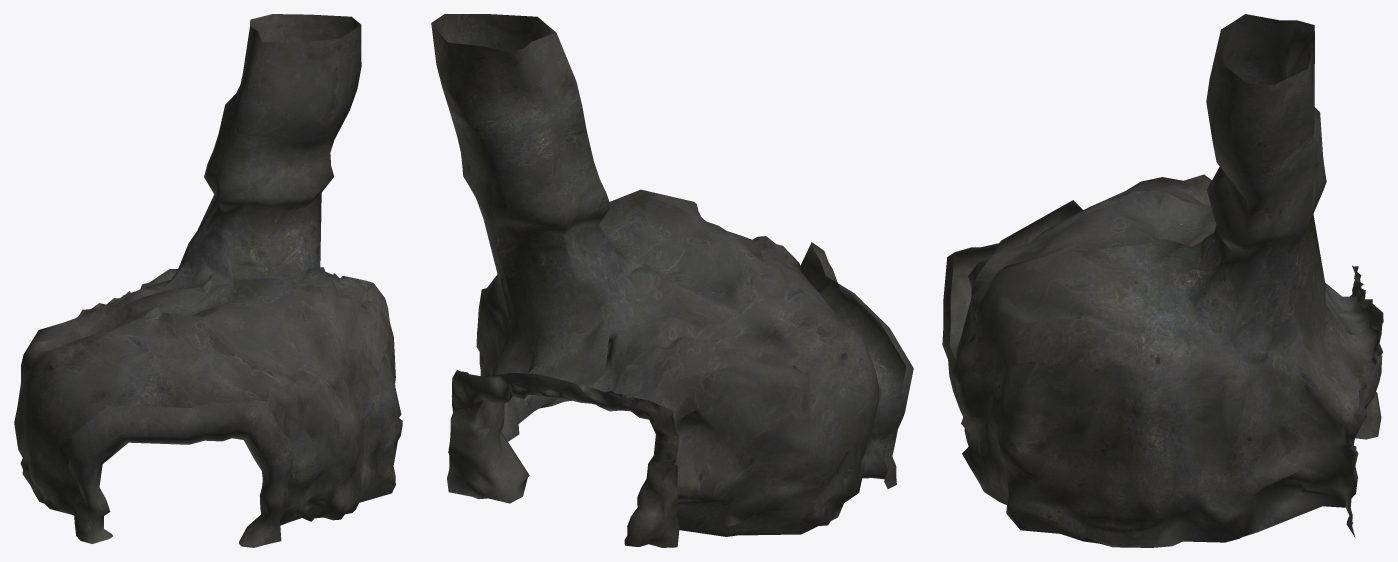
The model's file is rock_forest_caveroom02.DAE.
3 renders of one model, left to right at view 1: azimuth 30°, elevation 25°; view 2: azimuth 150°, elevation 25°; view 3: azimuth 270°, elevation 25°, orthographic. The views are drawn at different scales.
Visible parts, largest first — view 1: tunnel_Rock01 (2); view 2: tunnel_Rock01 (2); view 3: tunnel_Rock01 (2).
Boxes of the visible parts, x1,y1,x2,y2 form: tunnel_Rock01 (2): (14, 14, 402, 547); tunnel_Rock01 (2): (431, 14, 913, 547); tunnel_Rock01 (2): (942, 14, 1383, 547).
Size of the model in its own units: 18.34 by 19.56 by 15.81.
